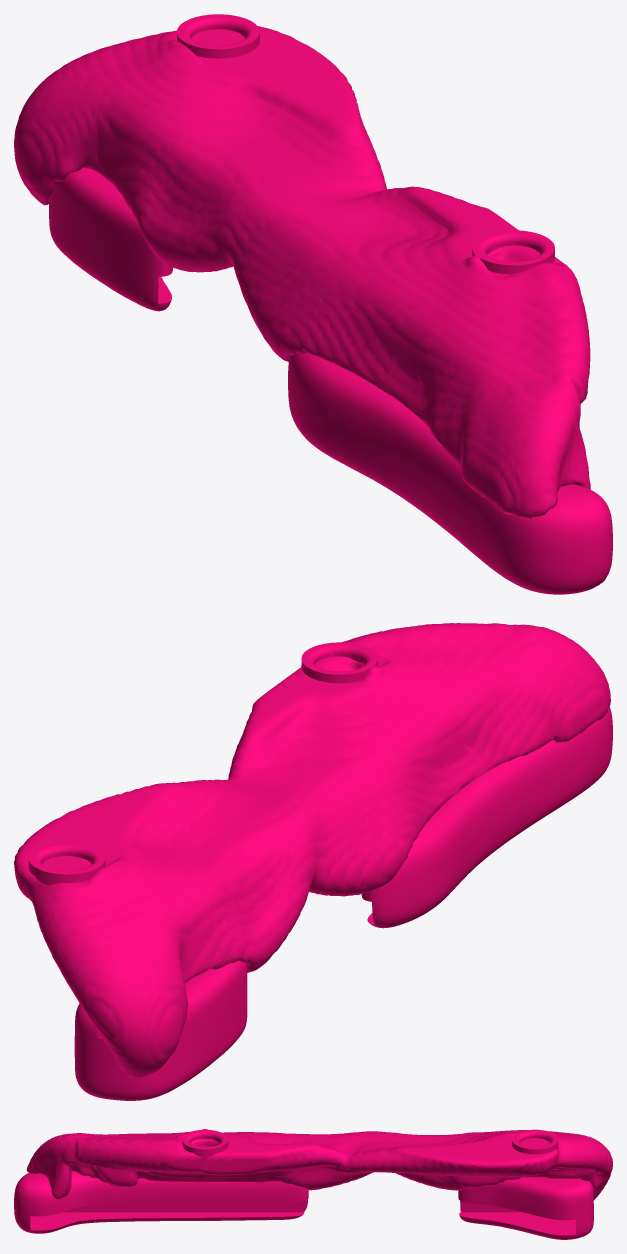
File: Exoskeleton_L.web.glb
3 renders of one model, top to bottom at view 1: azimuth 30°, elevation 25°; view 2: azimuth 150°, elevation 25°; view 3: azimuth 270°, elevation 25°, orthographic. The views are drawn at different scales.
Bounding box in the file's own units: 0.0188 × 0.0166 × 0.0775.
